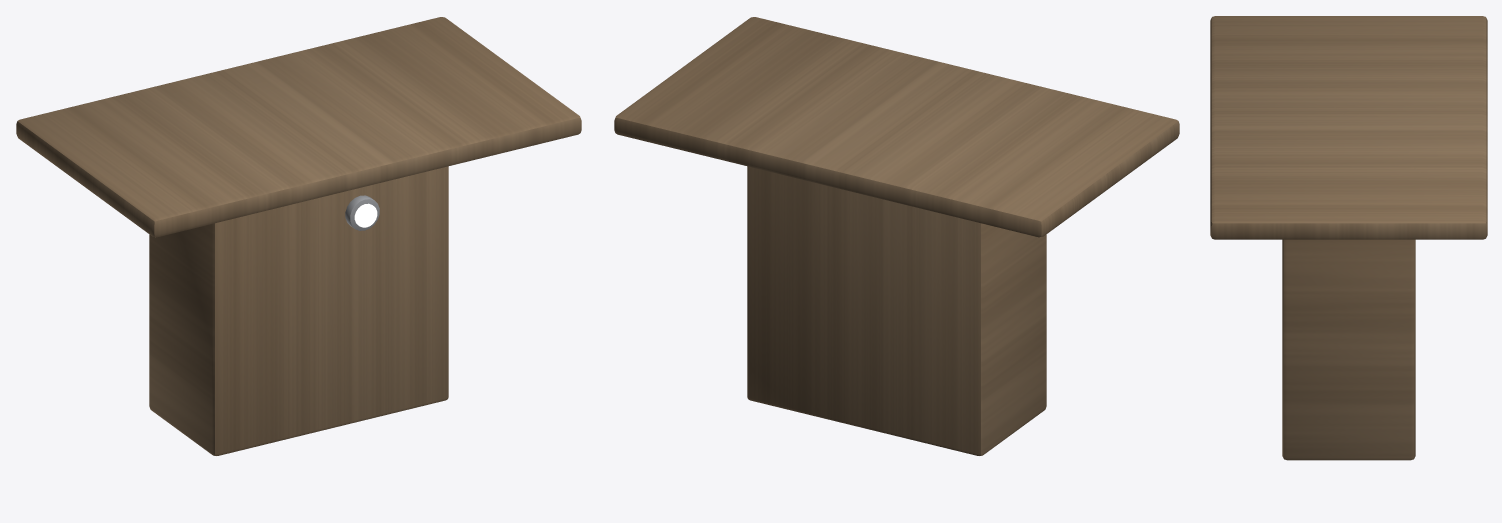
Rendered from pf_display_feature_table_t2.glb.
3 renders of one model, left to right at view 1: azimuth 30°, elevation 25°; view 2: azimuth 150°, elevation 25°; view 3: azimuth 270°, elevation 25°, orthographic.
Visible parts, largest first — view 1: Feature_Table_Top, Feature_Table_Plinth; view 2: Feature_Table_Plinth, Feature_Table_Top; view 3: Feature_Table_Top, Feature_Table_Plinth.
Part boxes in pixels (x1,y1,x2,y2): Feature_Table_Top: (16,17,581,237); Feature_Table_Plinth: (149,166,448,455); Feature_Table_Plinth: (747,166,1046,455); Feature_Table_Top: (614,17,1179,237); Feature_Table_Top: (1210,16,1487,239); Feature_Table_Plinth: (1282,239,1415,460).
Size of the model in its own units: 1.28 by 0.82 by 0.72.
4 materials, 1 textured.
